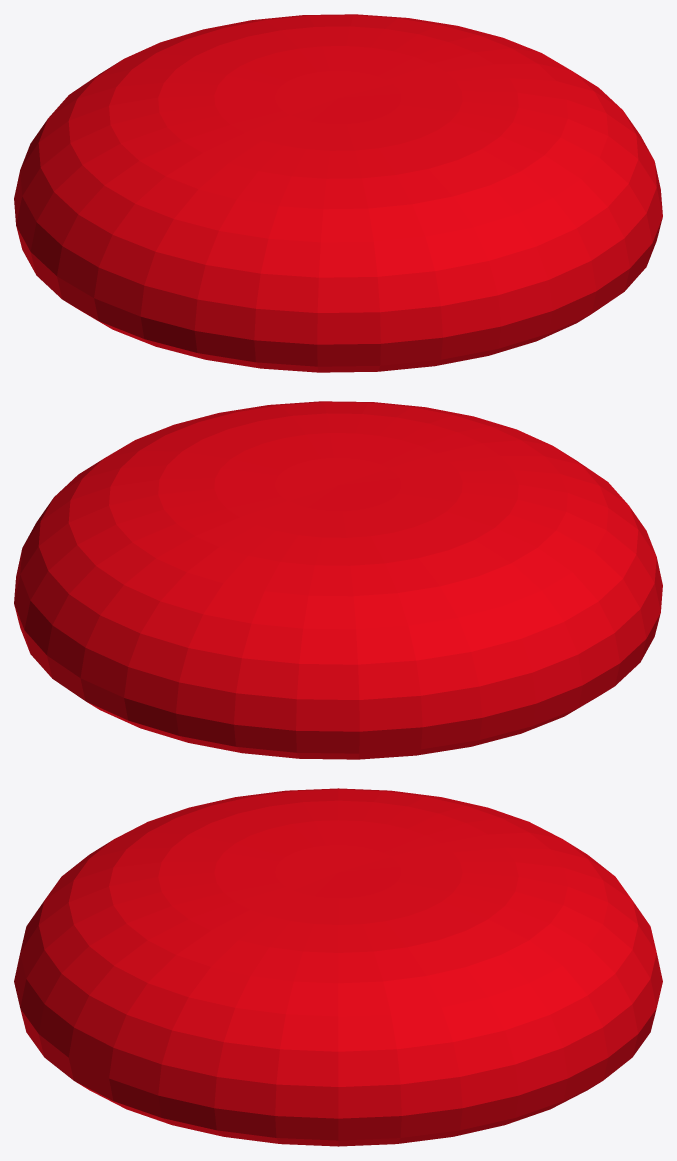
Rendered from ジャンプキノコ赤白.fbx.
3 views of the same model, one above another, from view 1: azimuth 30°, elevation 25°; view 2: azimuth 150°, elevation 25°; view 3: azimuth 270°, elevation 25° (orthographic).
Visible parts, largest first — view 1: Sphere; view 2: Sphere; view 3: Sphere.
Part boxes in pixels (<box>): Sphere: <box>14,14,662,372</box>; Sphere: <box>14,401,662,759</box>; Sphere: <box>14,788,662,1146</box>.
Size of the model in its own units: 469 by 118 by 469.
